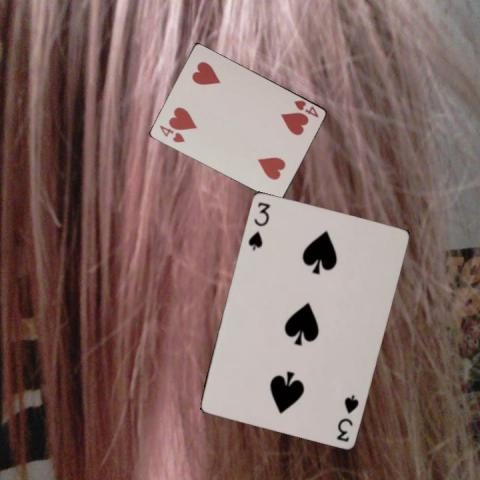3s: (333, 391, 360, 443), (245, 198, 271, 250)
4h: (156, 122, 186, 144), (291, 97, 320, 119)
